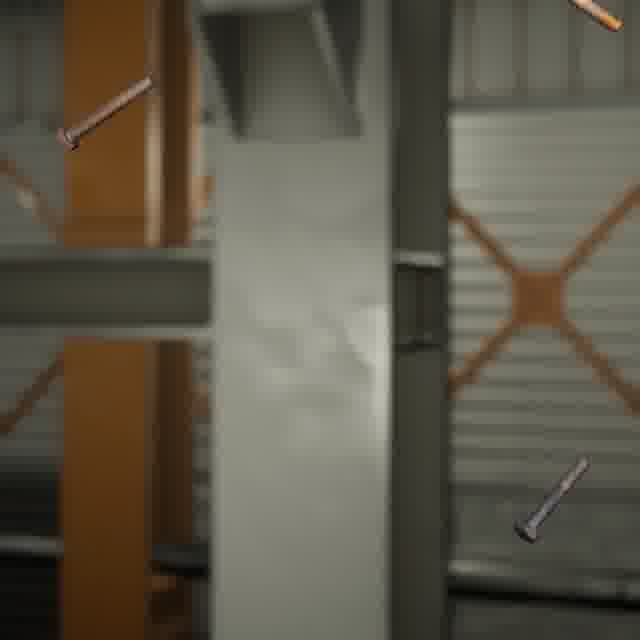bolt: (51, 70, 160, 155), (509, 452, 594, 547), (560, 0, 627, 37)
